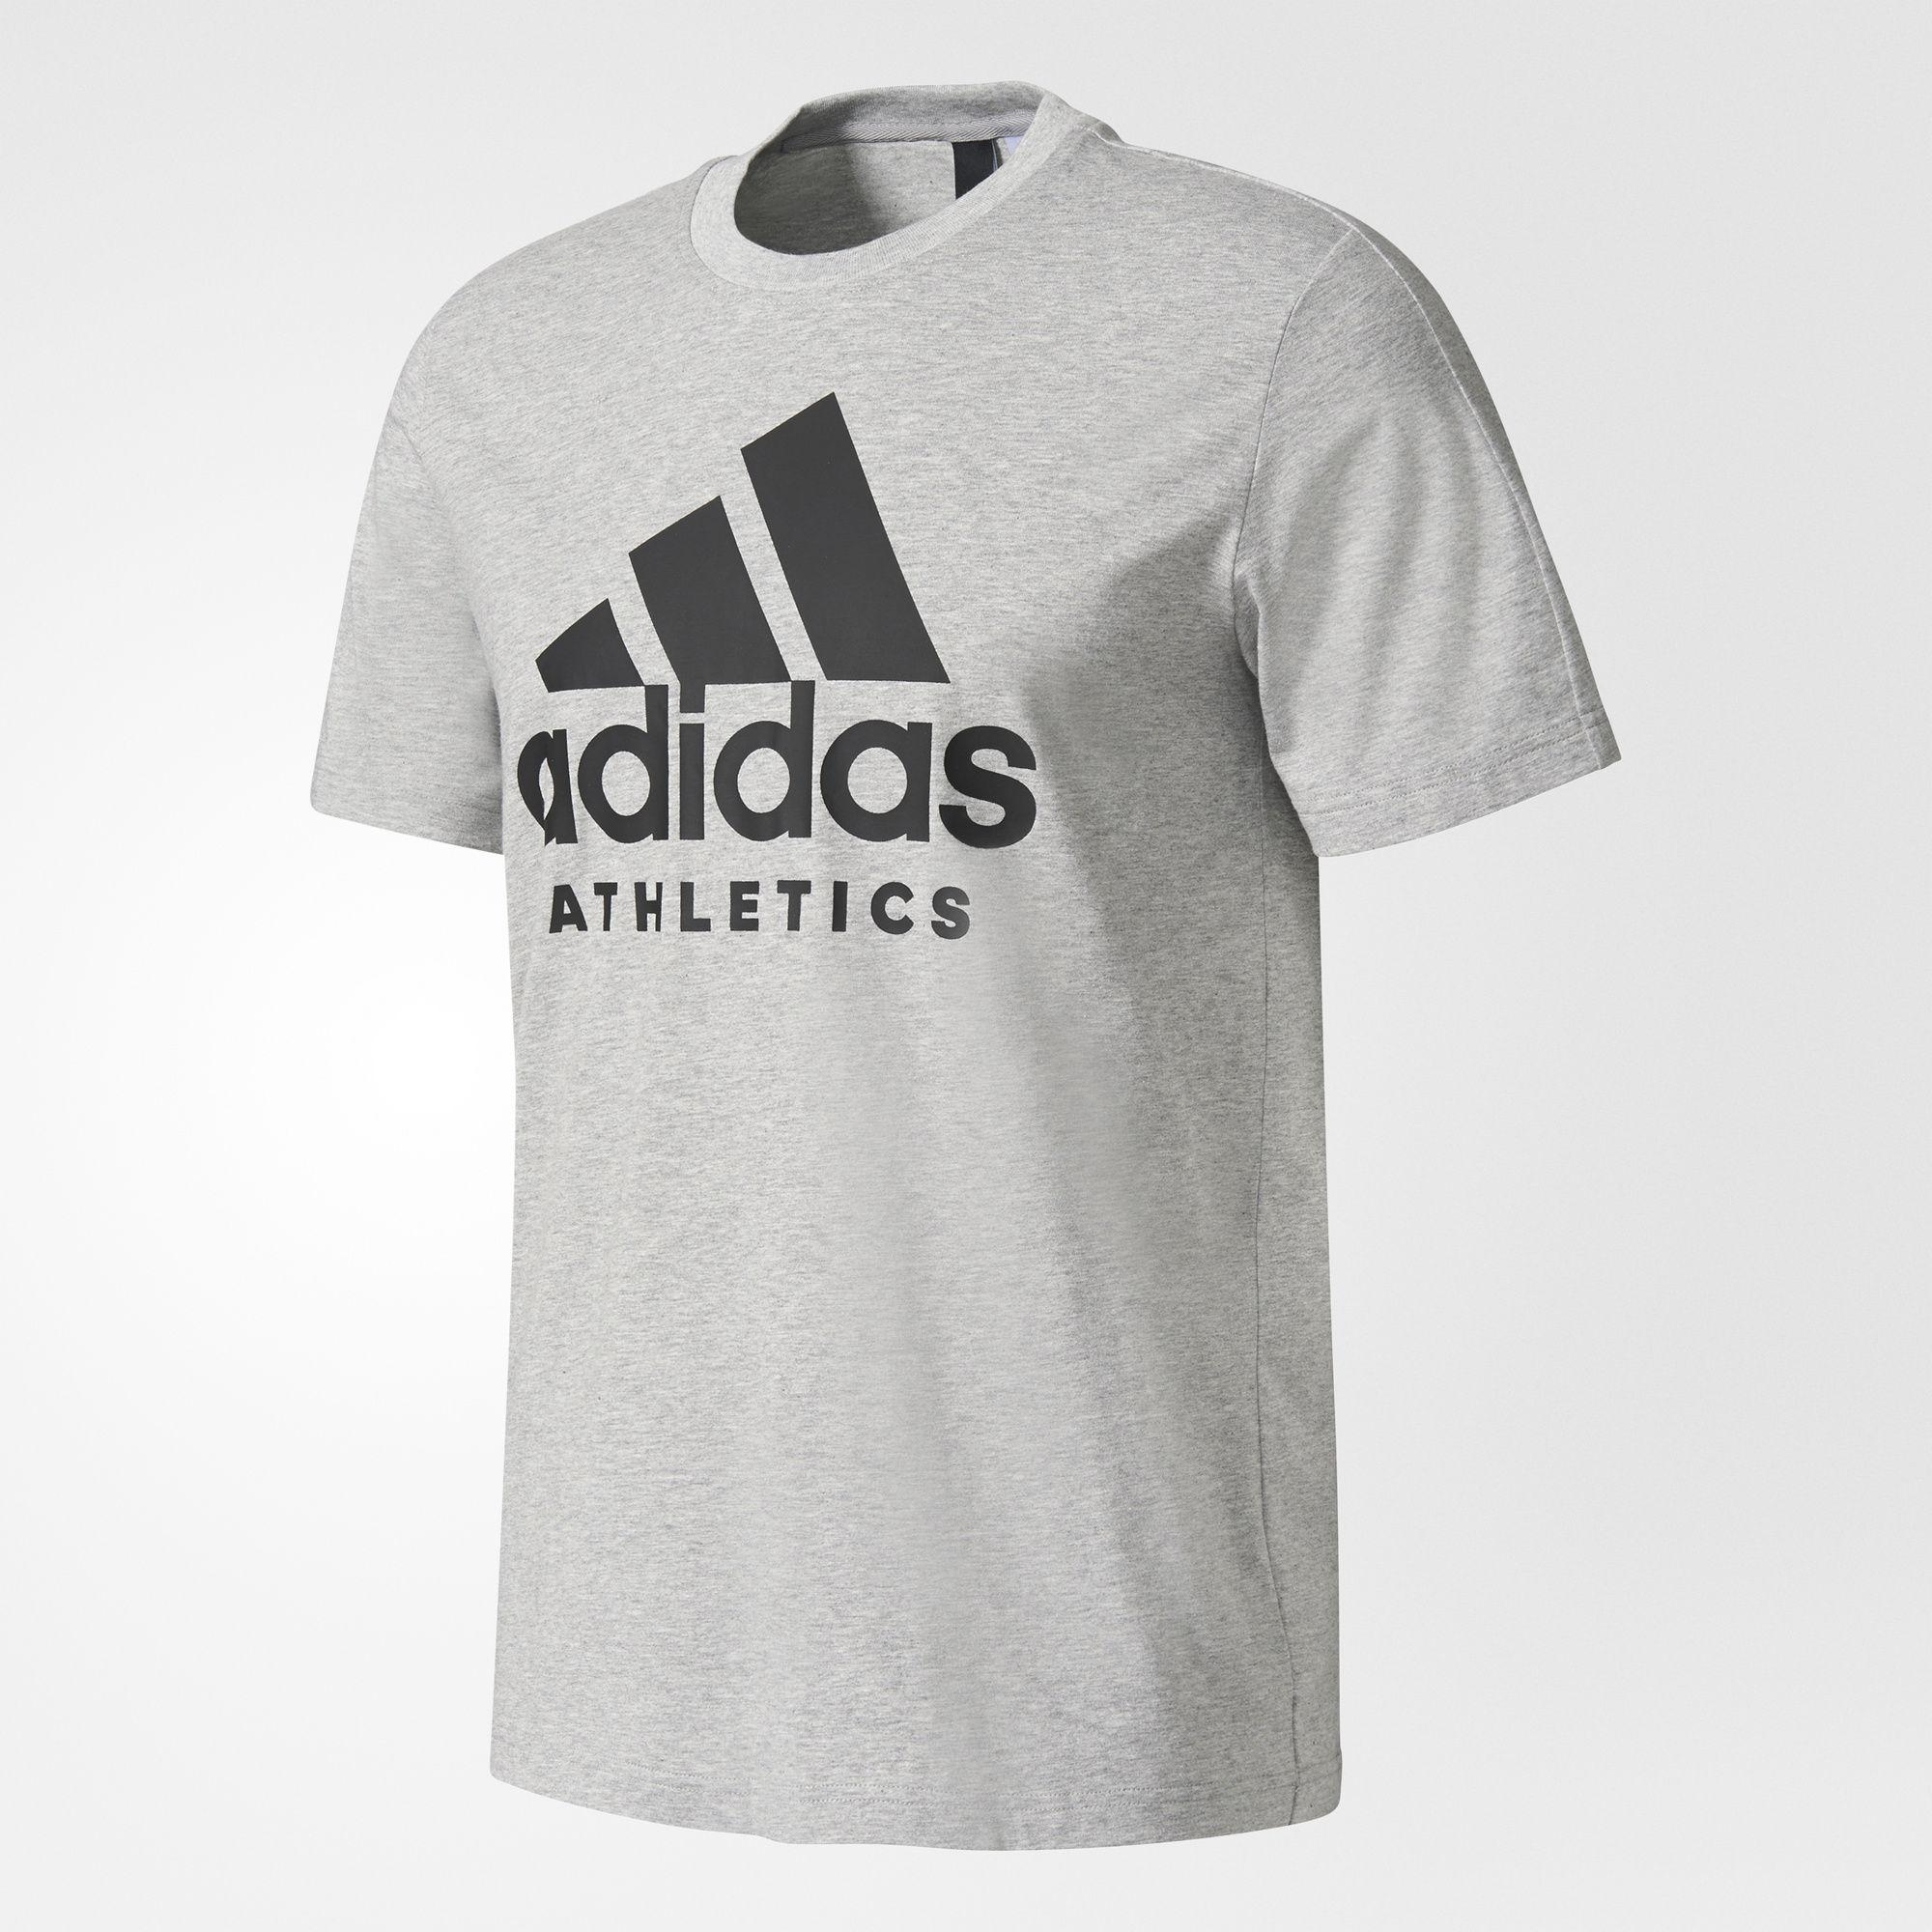teeshirt: (265, 78, 1661, 1877)
